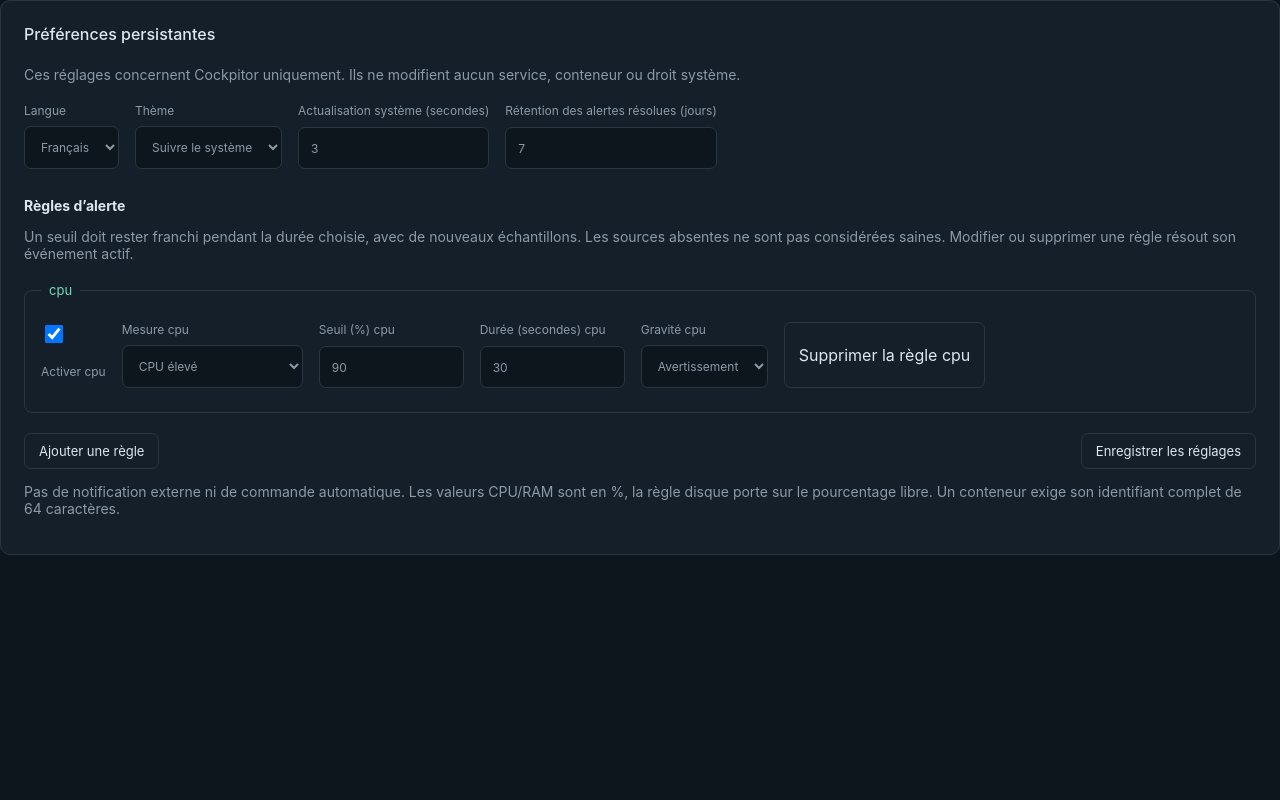
Test: reports failed persistence without claiming settings were saved
This screenshot has width=1280, height=800.
Expected: the dropdown labelled "Thème" is shown, x1=135 y1=126 x2=282 y2=169
Click the button "Enregistrer les réglages" at x=1168, y=451, box x1=1081 y1=433 x2=1256 y2=469
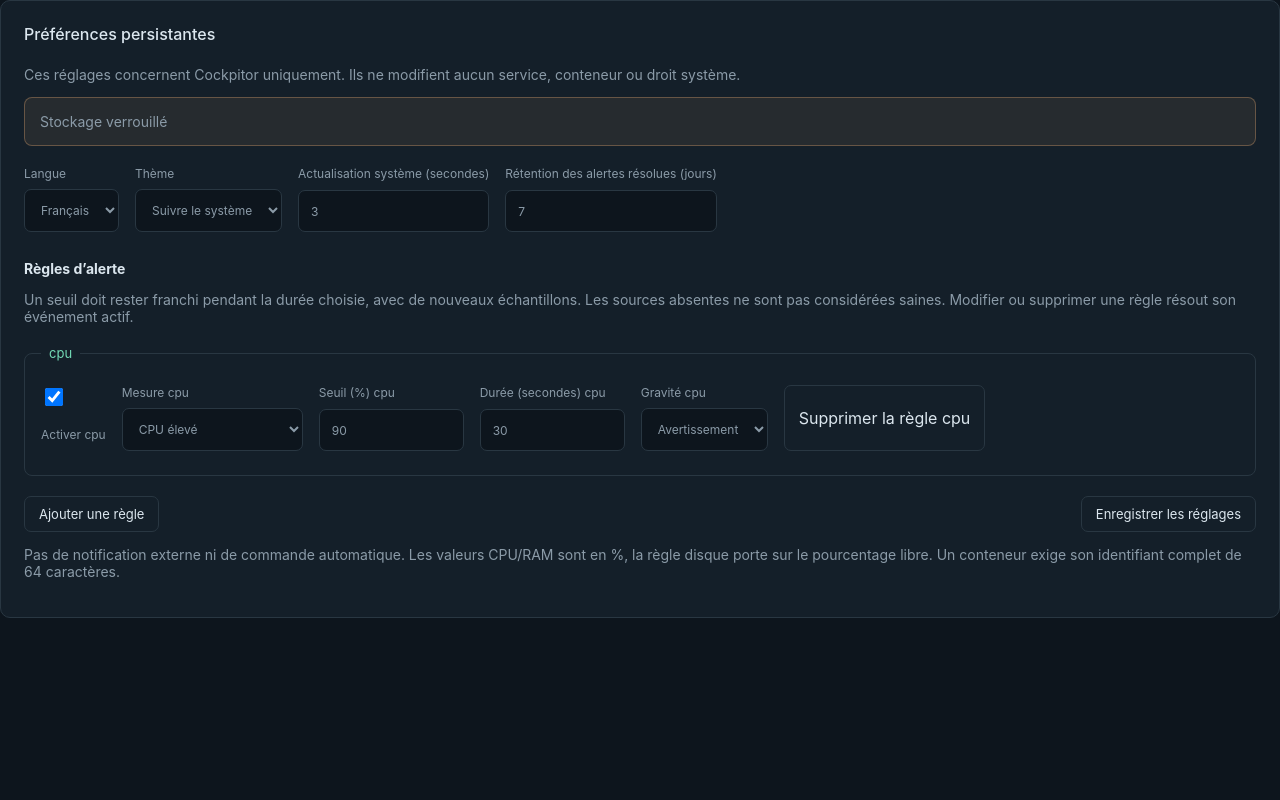
Now the message reads "Stockage verrouillé", box x1=40 y1=113 x2=167 y2=130
